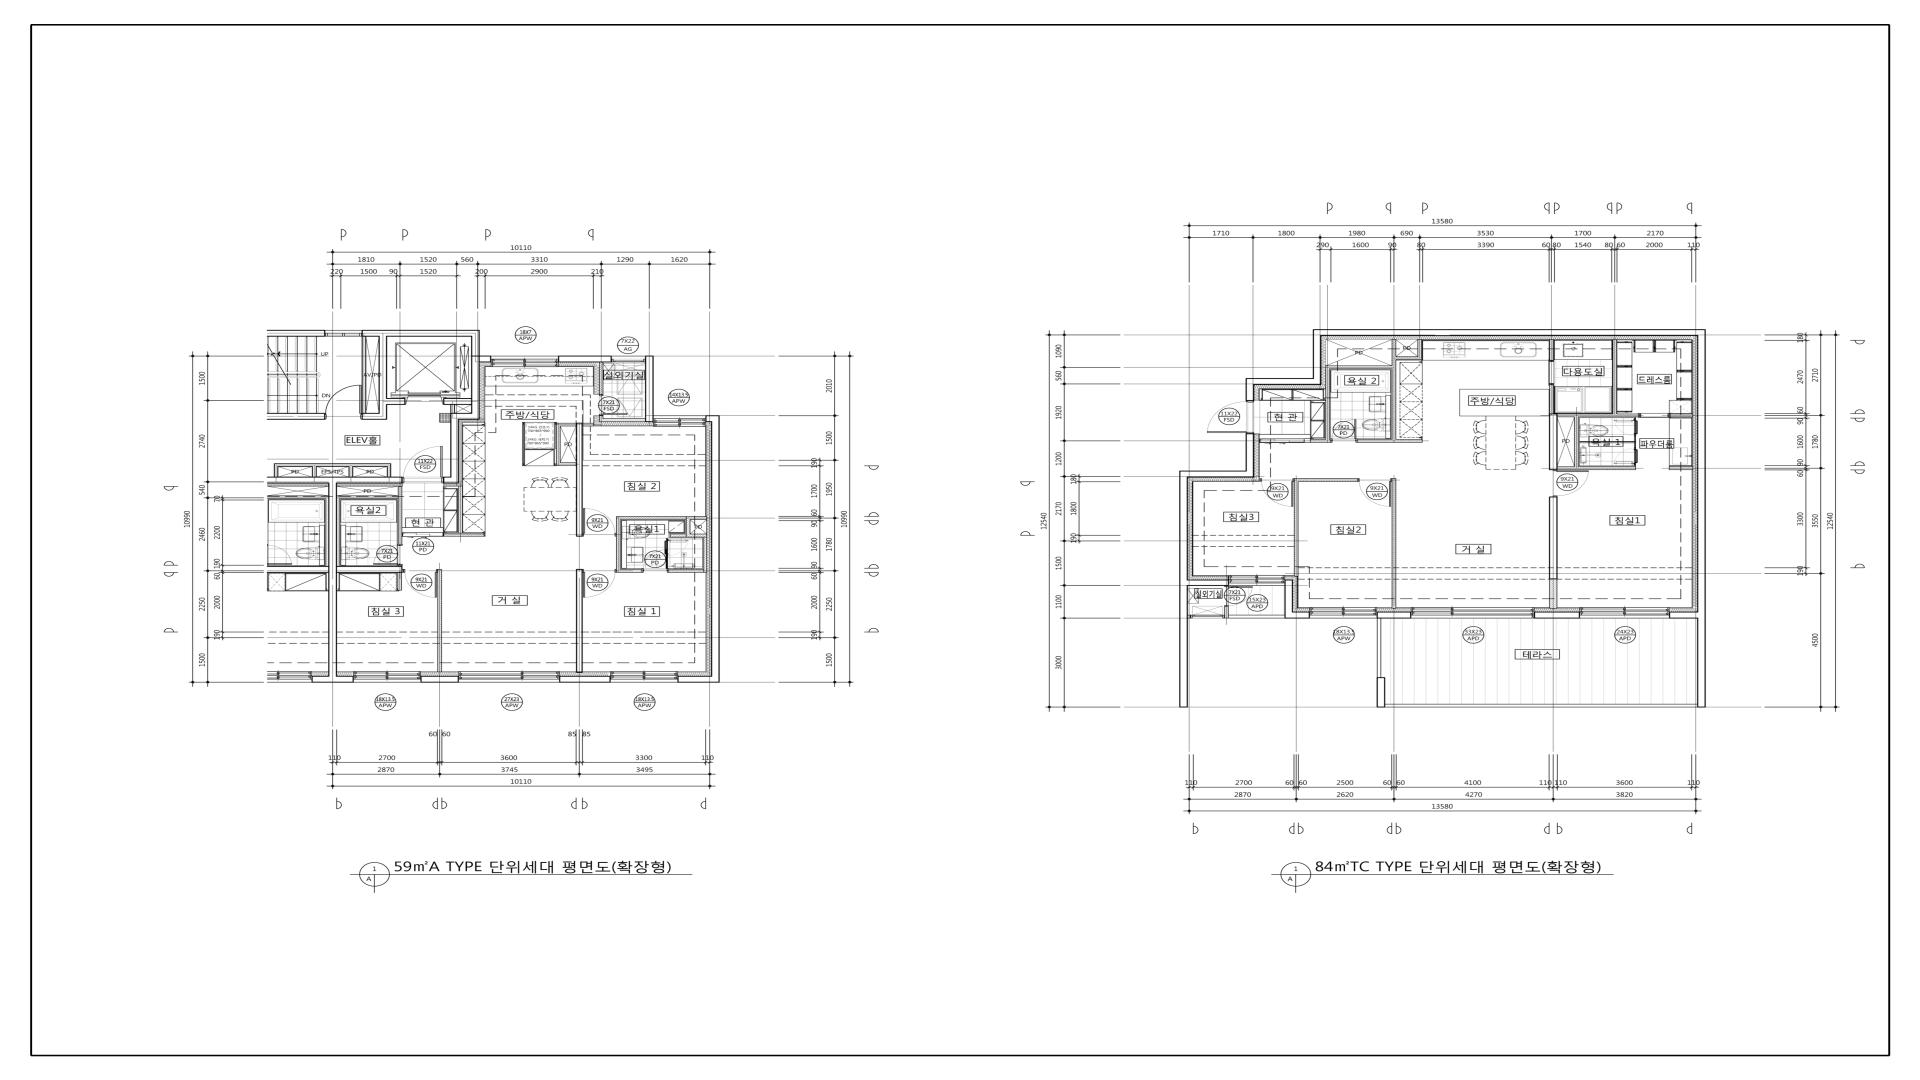door: (403, 445, 443, 483), (1207, 401, 1248, 433), (325, 385, 362, 420), (401, 569, 438, 597), (582, 508, 616, 537), (582, 569, 616, 597), (1553, 471, 1589, 496), (1261, 480, 1293, 507), (1360, 480, 1391, 507), (373, 544, 403, 566), (642, 549, 668, 573), (1332, 419, 1356, 440), (1227, 586, 1253, 605), (1613, 448, 1638, 464), (1614, 420, 1638, 436), (1259, 439, 1310, 443), (402, 533, 443, 537), (1639, 413, 1669, 418), (1548, 361, 1554, 385)
wall: (1245, 329, 1706, 619), (1179, 433, 1254, 618), (706, 415, 720, 676), (328, 484, 337, 676), (1284, 580, 1310, 619), (266, 477, 402, 484), (1548, 496, 1558, 579), (576, 423, 583, 537), (361, 330, 471, 337), (471, 330, 480, 413), (576, 569, 583, 673), (379, 336, 387, 413), (645, 356, 653, 422), (1392, 478, 1396, 609), (450, 419, 459, 477), (437, 569, 442, 672), (1294, 482, 1299, 576), (1549, 414, 1557, 471), (337, 566, 402, 573), (267, 413, 326, 420), (267, 330, 325, 337), (1392, 339, 1396, 439), (559, 676, 611, 683), (274, 464, 391, 467), (1325, 369, 1330, 439), (620, 516, 706, 520), (558, 356, 612, 362), (1534, 612, 1580, 619), (1557, 466, 1636, 470), (362, 336, 366, 413), (1613, 339, 1617, 414), (678, 676, 720, 683), (599, 416, 645, 422), (1549, 579, 1558, 609), (1325, 365, 1392, 369), (421, 676, 459, 683), (1357, 439, 1423, 443), (1294, 478, 1359, 482), (1574, 417, 1579, 467), (1557, 414, 1639, 417), (458, 486, 463, 533), (398, 486, 402, 544), (340, 495, 398, 499), (616, 516, 620, 569), (337, 496, 340, 566), (1377, 612, 1411, 618), (443, 398, 471, 405), (328, 676, 354, 683), (362, 413, 387, 420), (451, 413, 480, 419), (556, 426, 560, 466), (668, 569, 707, 573), (1549, 385, 1554, 414), (599, 362, 603, 395), (703, 537, 707, 569), (387, 398, 405, 405), (444, 533, 484, 536), (670, 534, 707, 537), (1549, 339, 1554, 361), (1579, 441, 1634, 443), (1396, 356, 1422, 360), (616, 569, 641, 573), (1669, 466, 1693, 470), (443, 477, 459, 483), (397, 573, 402, 590), (1310, 439, 1331, 443), (1669, 414, 1693, 417), (1418, 339, 1422, 356), (480, 356, 491, 362), (1224, 605, 1229, 618), (560, 462, 576, 466), (686, 519, 690, 534), (556, 423, 576, 426), (312, 467, 317, 477), (348, 467, 353, 477), (450, 405, 455, 413), (274, 467, 278, 477), (387, 467, 391, 477), (583, 423, 594, 426), (1634, 436, 1636, 448), (1188, 615, 1191, 618)
window: (1411, 607, 1534, 618), (458, 671, 559, 682), (1580, 607, 1669, 618), (610, 671, 678, 683), (1309, 607, 1377, 618), (353, 671, 420, 682), (491, 356, 558, 367), (1228, 575, 1284, 586), (653, 416, 706, 427), (325, 330, 361, 336), (612, 356, 645, 362), (1191, 615, 1224, 618)
